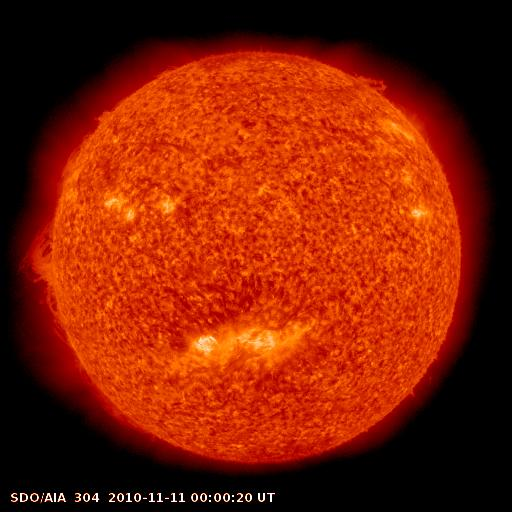prominence: (10, 215, 71, 340), (57, 101, 115, 178), (347, 59, 394, 107)
